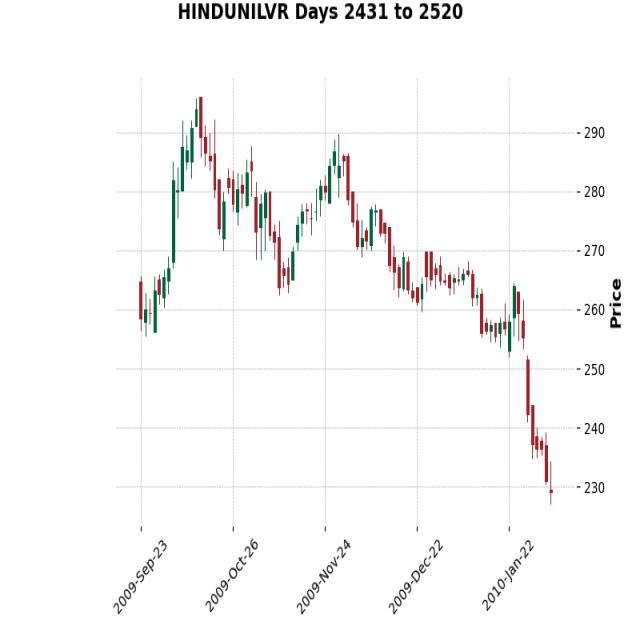Double Top: (170, 70, 363, 246)
